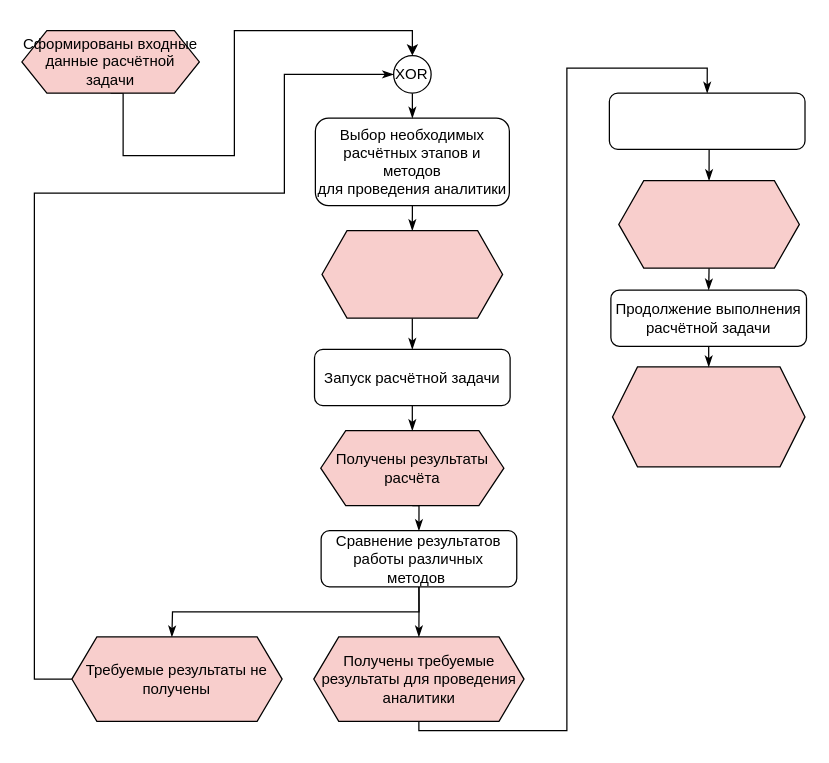
The diagram is 829 pixels wide and 763 high, and some of its shapes have lost their labels. The shapes that lost their labels are listed below. From the top down, each one's centre as x and y in pixels, then its label:
At pixel 706 120: "Выбор этапов необходимых для завершения расчёта".
At pixel 708 223: "Выбраны все необходимые этапы".
At pixel 412 273: "Выбраны все необходимые этапы и методы".
At pixel 708 416: "Сформирован генеральный план площадного объекта".
